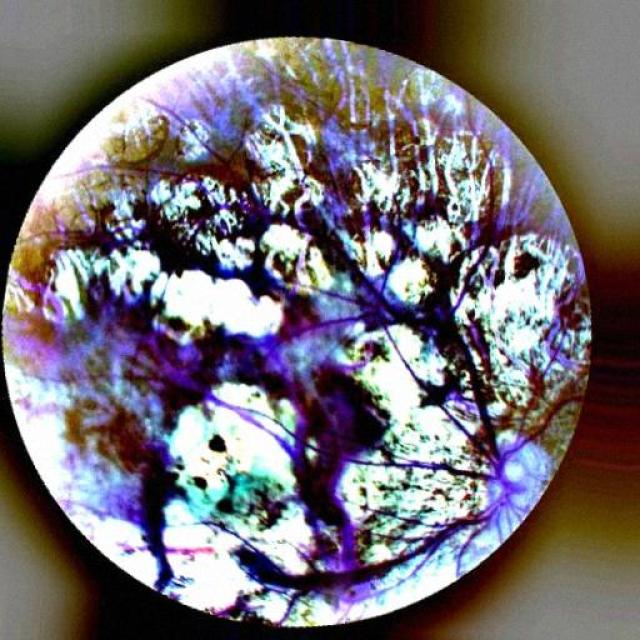Nerves: (356, 249, 528, 525)
Optic Disk: (455, 435, 554, 578)
